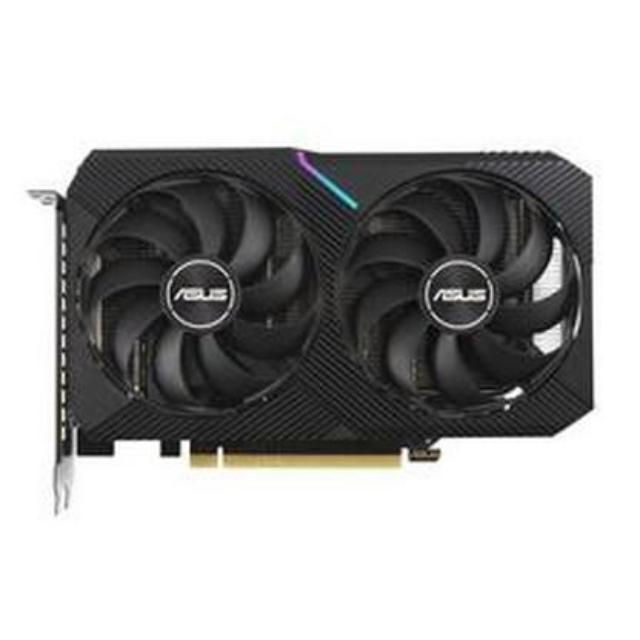GPU: (36, 138, 601, 476)
